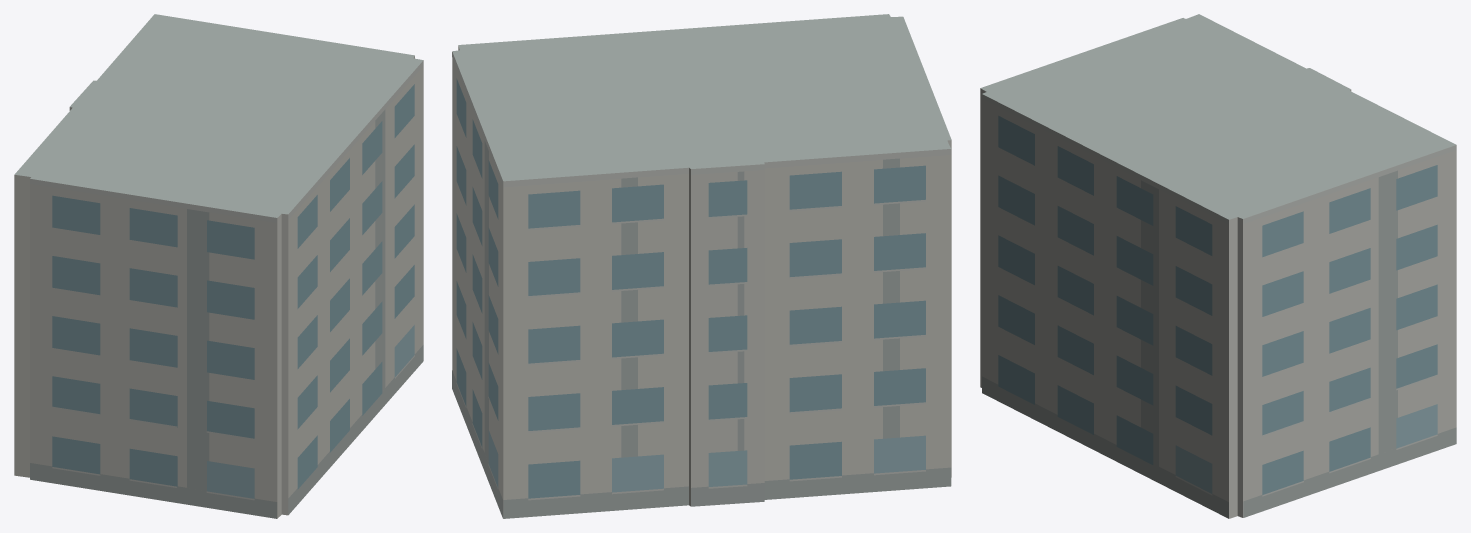
File: survey-upis-32867118.glb
The picture shows the model from 3 angles, left to right: view 1: azimuth 30°, elevation 25°; view 2: azimuth 150°, elevation 25°; view 3: azimuth 270°, elevation 25°; orthographic projection. The views are drawn at different scales.
Parts seen in each view (by area): view 1: survey-upis-32867118.tmp; view 2: survey-upis-32867118.tmp; view 3: survey-upis-32867118.tmp.
Part boxes in pixels (<box>): survey-upis-32867118.tmp: <box>14,14,423,518</box>; survey-upis-32867118.tmp: <box>452,14,951,518</box>; survey-upis-32867118.tmp: <box>980,14,1456,518</box>.
Size of the model in its own units: 20.52 by 13.9 by 20.07.
